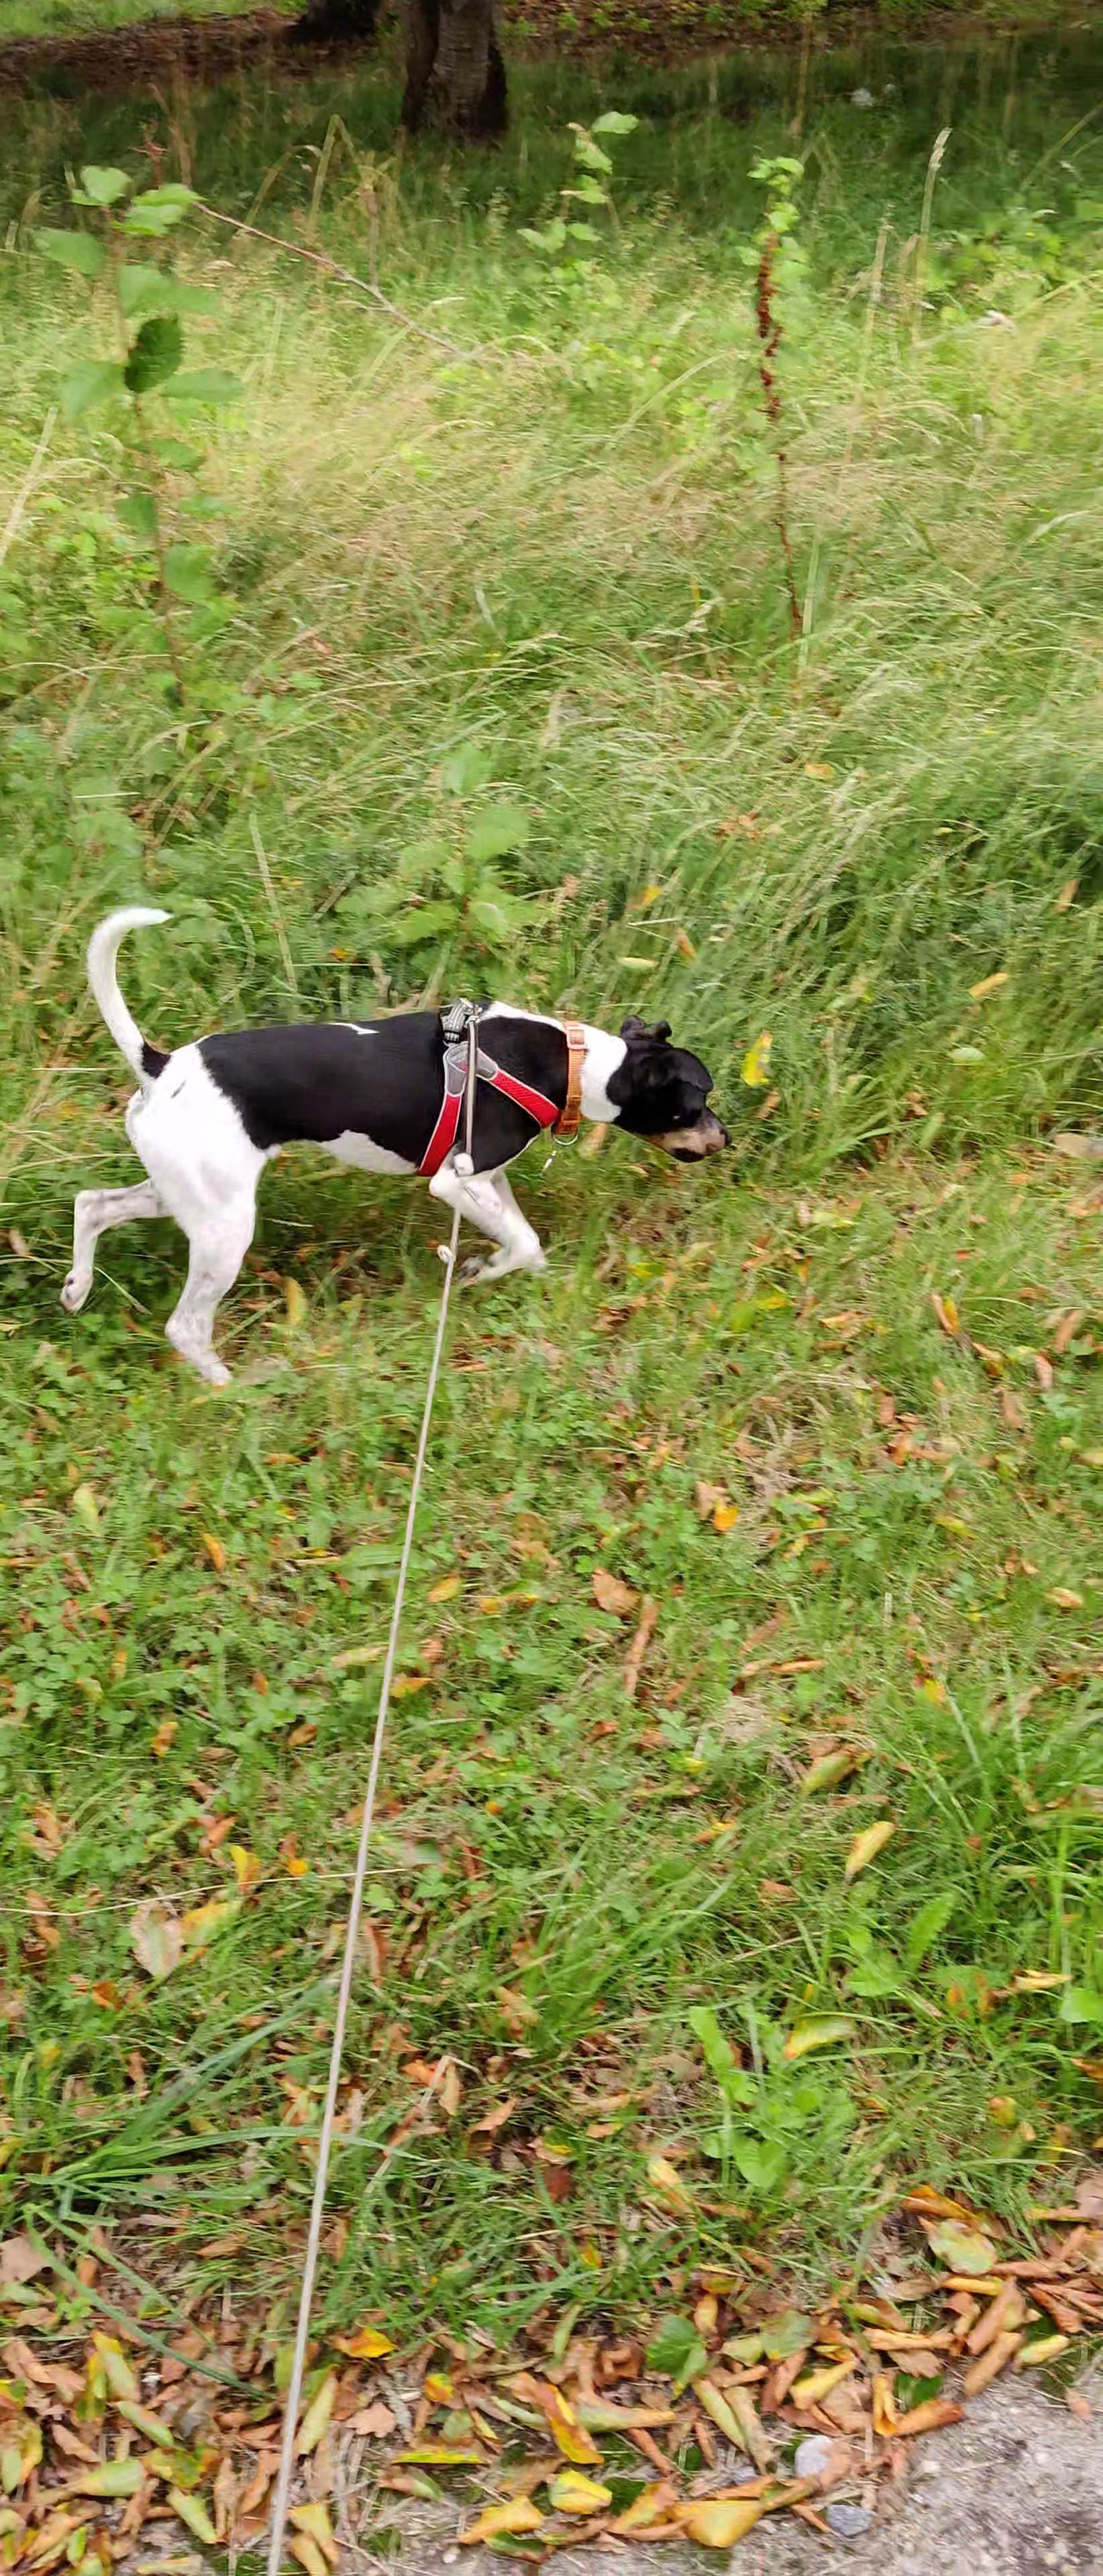Dog: (51, 902, 738, 1391)
